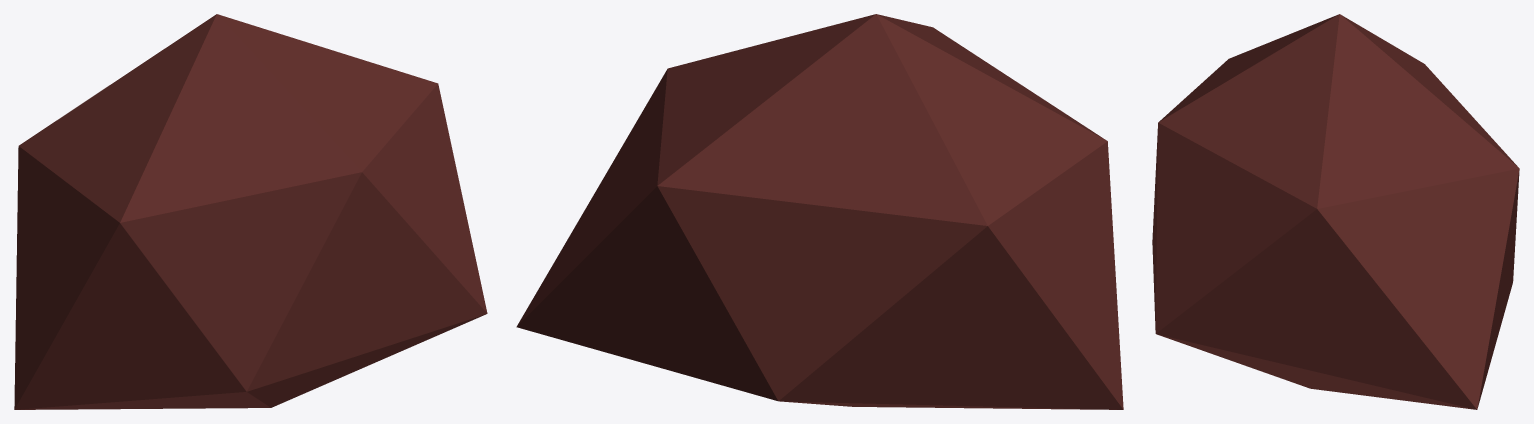
File: Rock.fbx
The picture shows the model from 3 angles, left to right: view 1: azimuth 30°, elevation 25°; view 2: azimuth 150°, elevation 25°; view 3: azimuth 270°, elevation 25°; orthographic projection. The views are drawn at different scales.
Visible parts, largest first — view 1: Rock; view 2: Rock; view 3: Rock.
Part boxes in pixels (x1,y1,x2,y2): Rock: (14,14,487,409); Rock: (516,14,1123,409); Rock: (1152,14,1519,409).
Size of the model in its own units: 98.34 by 76.34 by 71.03.
